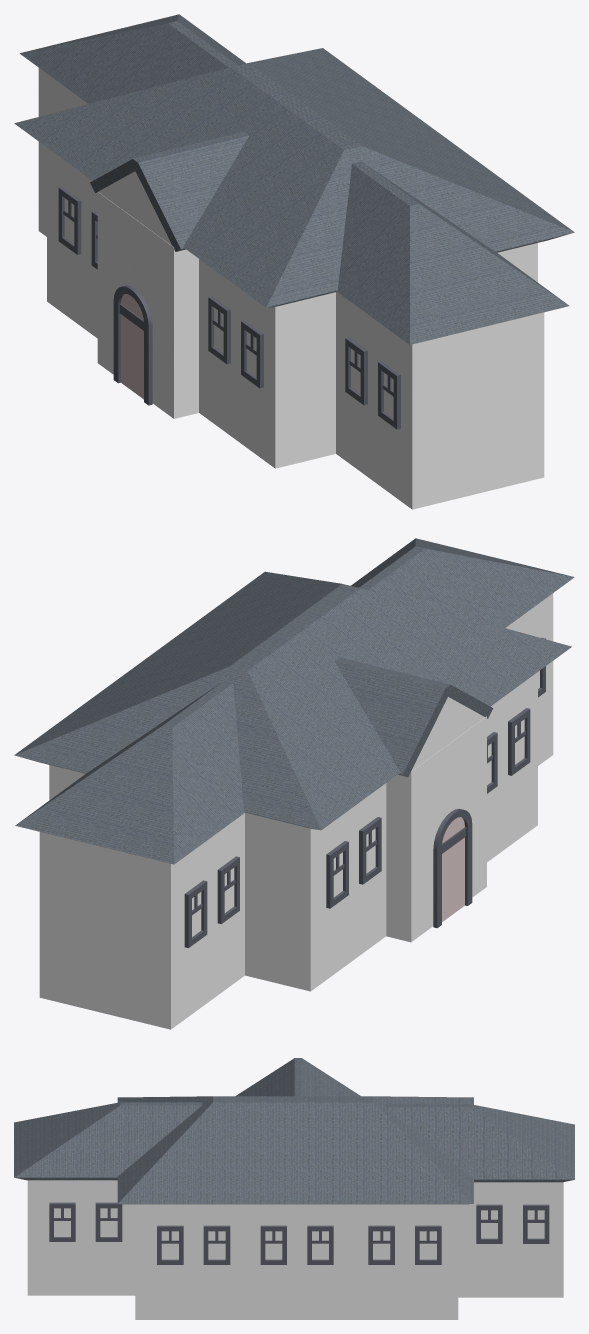
3 views of the same model, one above another, from view 1: azimuth 30°, elevation 25°; view 2: azimuth 150°, elevation 25°; view 3: azimuth 270°, elevation 25° (orthographic). The views are drawn at different scales.
Visible parts, largest first — view 1: mergedBlocks(Clone); view 2: mergedBlocks(Clone); view 3: mergedBlocks(Clone).
Boxes of the visible parts, left/top/right/bottom form: mergedBlocks(Clone): left=14, top=14, right=574, bottom=509; mergedBlocks(Clone): left=14, top=538, right=574, bottom=1029; mergedBlocks(Clone): left=14, top=1058, right=574, bottom=1319.
Bounding box in the file's own units: 10.81 × 8.08 × 23.41.
Materials: 5 (1 with a texture image).
